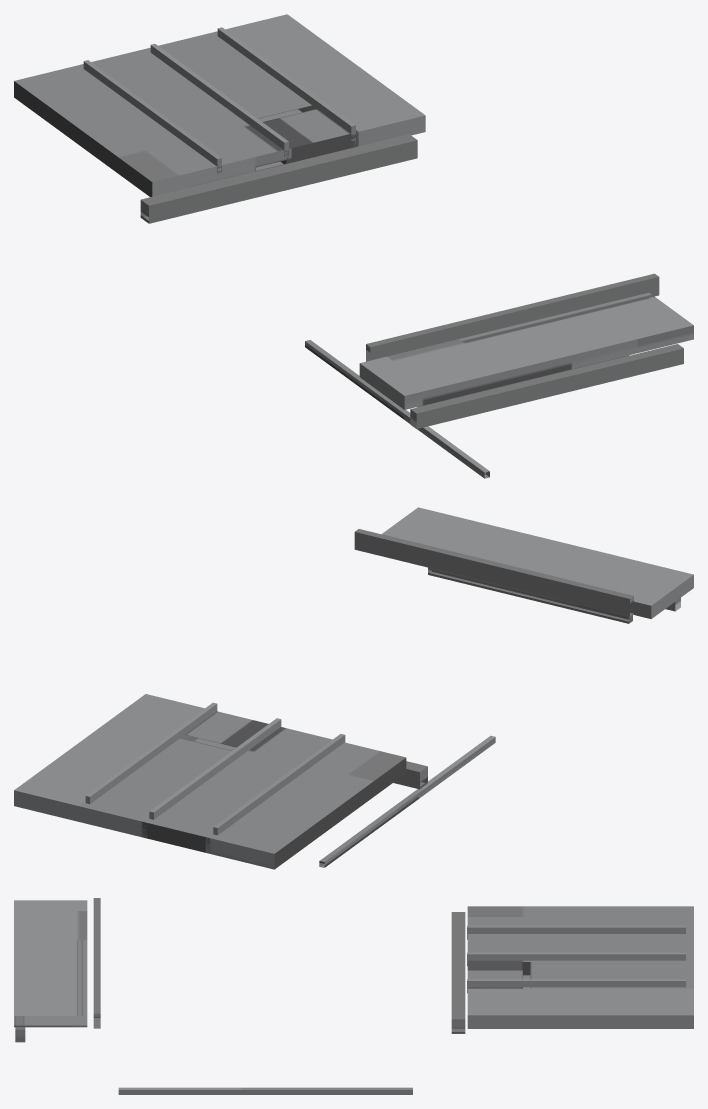
3 views of the same model, one above another, from view 1: azimuth 30°, elevation 25°; view 2: azimuth 150°, elevation 25°; view 3: azimuth 270°, elevation 25° (orthographic). The views are drawn at different scales.
Bounding box in the file's own units: 1.04 × 0.579 × 2.46.
